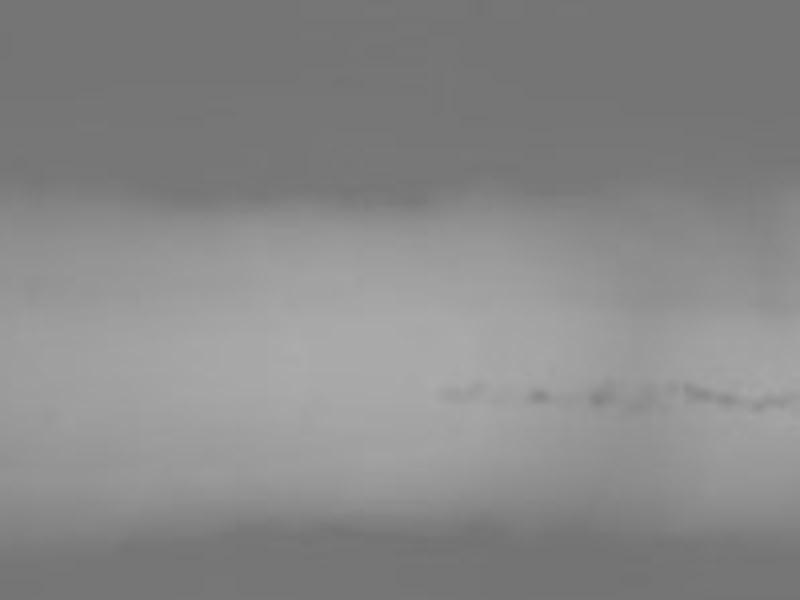defect: (682, 384, 710, 402), (714, 390, 740, 409), (463, 377, 486, 397), (588, 387, 612, 406), (764, 390, 786, 410), (442, 383, 461, 401), (530, 386, 548, 403), (620, 400, 639, 416), (665, 376, 681, 393), (749, 400, 763, 417)
